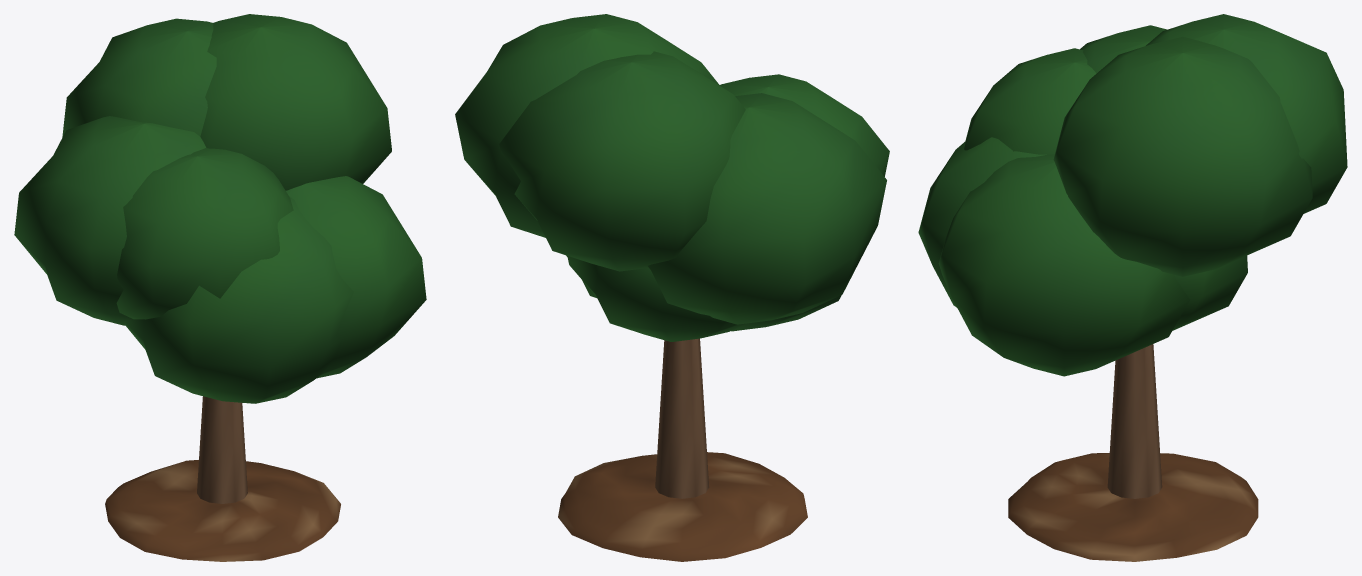
Rendered from plant-mango-4.gltf.
The picture shows the model from 3 angles, left to right: view 1: azimuth 30°, elevation 25°; view 2: azimuth 150°, elevation 25°; view 3: azimuth 270°, elevation 25°; orthographic projection. The views are drawn at different scales.
Size of the model in its own units: 2.07 by 2.71 by 2.16.
